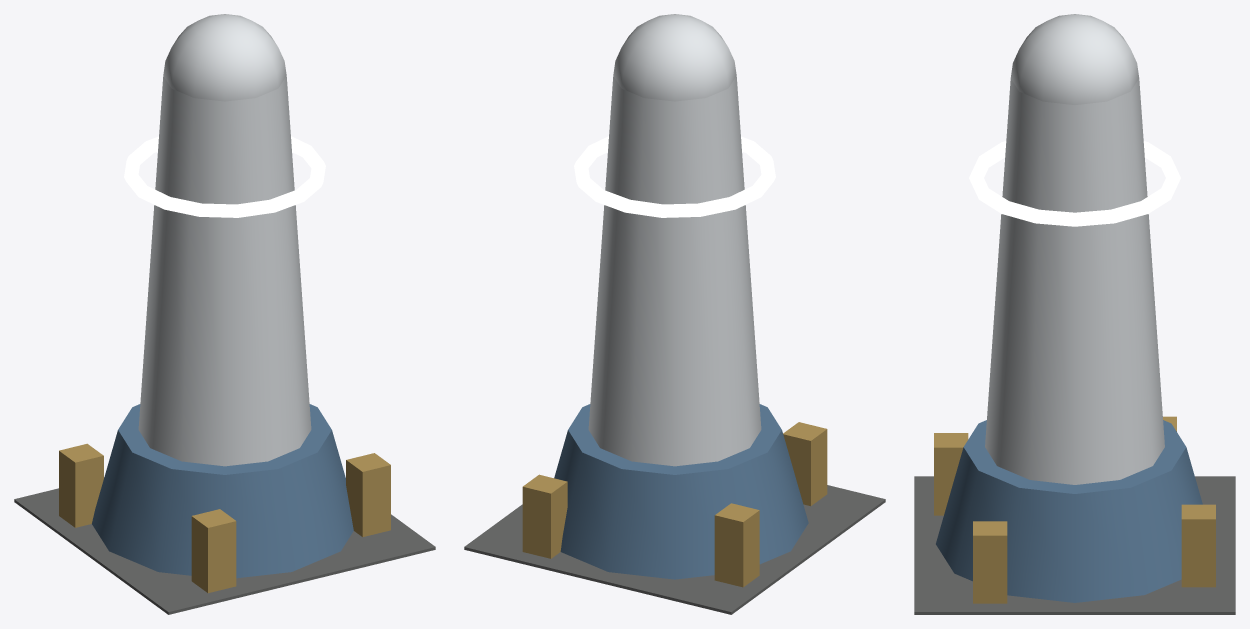
File: bld_special_command_center_a10.glb
The picture shows the model from 3 angles, left to right: view 1: azimuth 30°, elevation 25°; view 2: azimuth 150°, elevation 25°; view 3: azimuth 270°, elevation 25°; orthographic projection. The views are drawn at different scales.
Parts seen in each view (by area): view 1: body; view 2: body; view 3: body.
Boxes of the visible parts, left/top/right/bottom form: body: left=14, top=14, right=435, bottom=614; body: left=464, top=14, right=885, bottom=614; body: left=914, top=14, right=1235, bottom=614.
Size of what is drawn, in the model's own units: 15 by 27.15 by 15.
